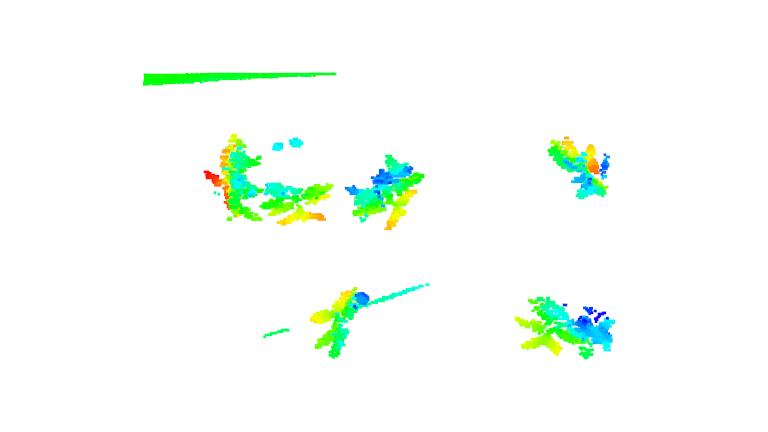chickpea: (517, 294, 612, 362), (347, 154, 418, 224), (204, 135, 261, 221), (549, 134, 613, 202), (308, 285, 368, 356), (261, 180, 333, 223)
